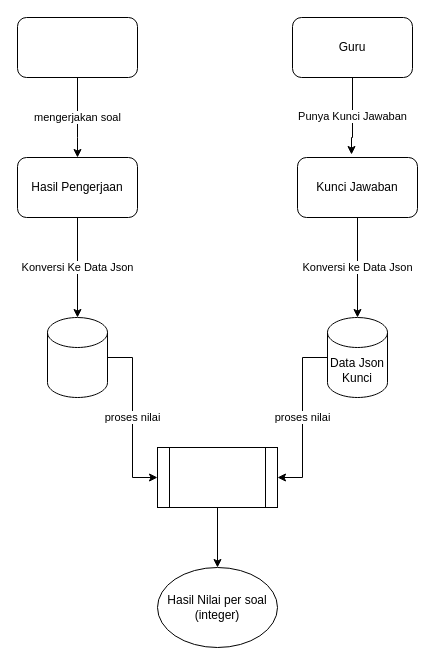
Some shapes in this 435 by 665 pixel diagram are drawn without their labels. The shapes that lost their labels are listed below. From the top down, each one's centre as x and y in pixels, then its label:
(x=77, y=47): Siswa
(x=77, y=357): Data Json Jawaban
(x=217, y=477): Counter Library
